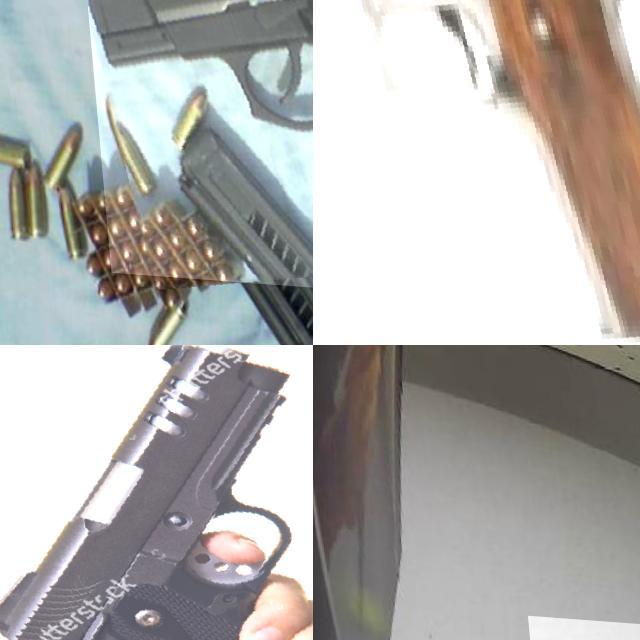gun-knife-thesis - v11 Yolov5 augmented: (313, 0, 640, 345), (0, 345, 313, 640), (75, 0, 313, 294)
